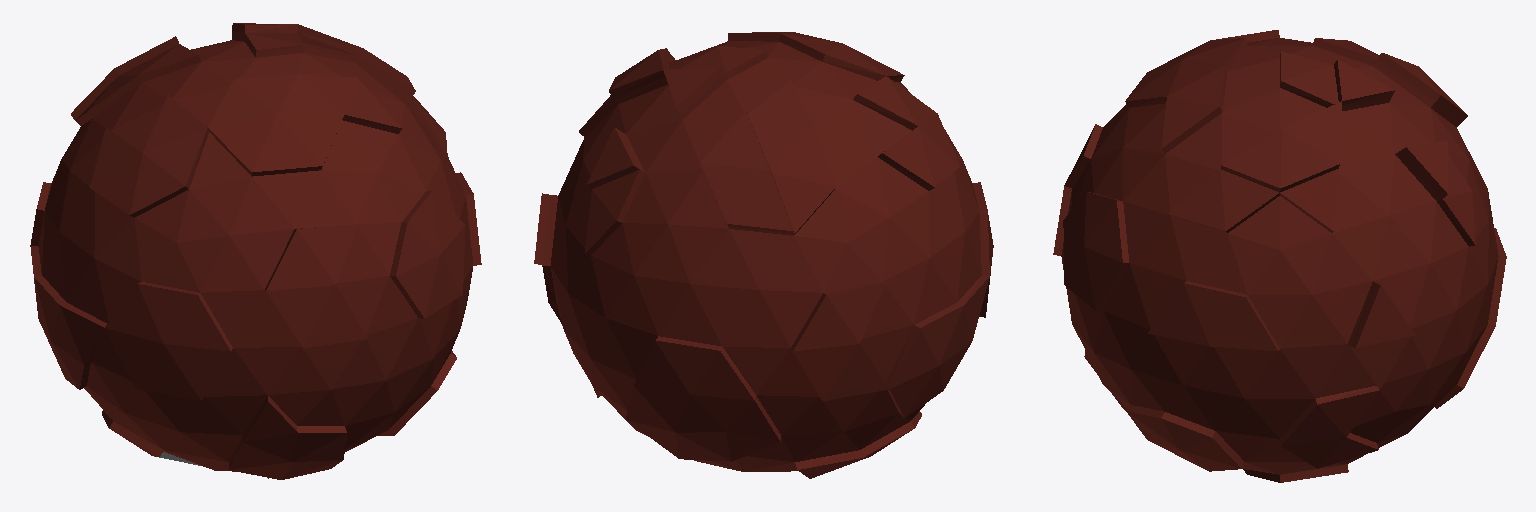
File: Mars.obj
The picture shows the model from 3 angles: view 1: azimuth 30°, elevation 25°; view 2: azimuth 150°, elevation 25°; view 3: azimuth 270°, elevation 25°; orthographic projection.
Visible parts, largest first — view 1: Icosphere; view 2: Icosphere; view 3: Icosphere.
Boxes of the visible parts, x1=… form: Icosphere: x1=30, y1=23, x2=481, y2=479; Icosphere: x1=534, y1=32, x2=993, y2=478; Icosphere: x1=1053, y1=30, x2=1506, y2=482.
Size of the model in its own units: 2.08 by 2.08 by 2.07.